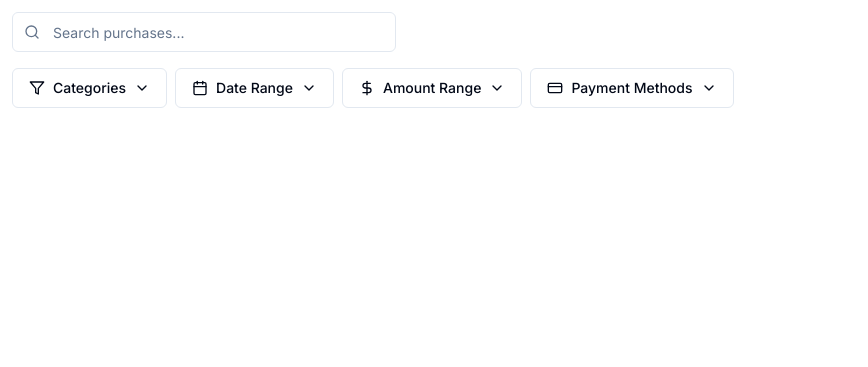
PurchaseFilters › should open payment method filter when clicked
The width and height of the screenshot is (868, 367).
Click the button "Payment Methods".
click(632, 88)  # box left=530, top=68, right=734, bottom=108
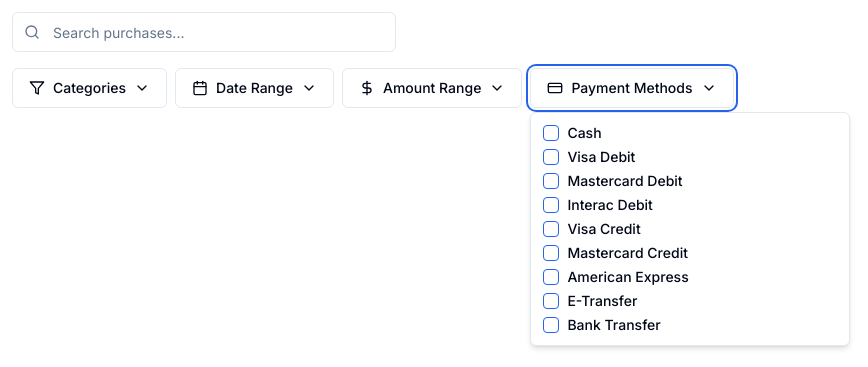
expect the checkbox "Cash" is shown: met, box left=567, top=124, right=602, bottom=141
expect the checkbox "Visa Credit" is shown: met, box left=567, top=220, right=641, bottom=237
expect the checkbox "Mastercard Credit" is shown: met, box left=567, top=244, right=688, bottom=261
